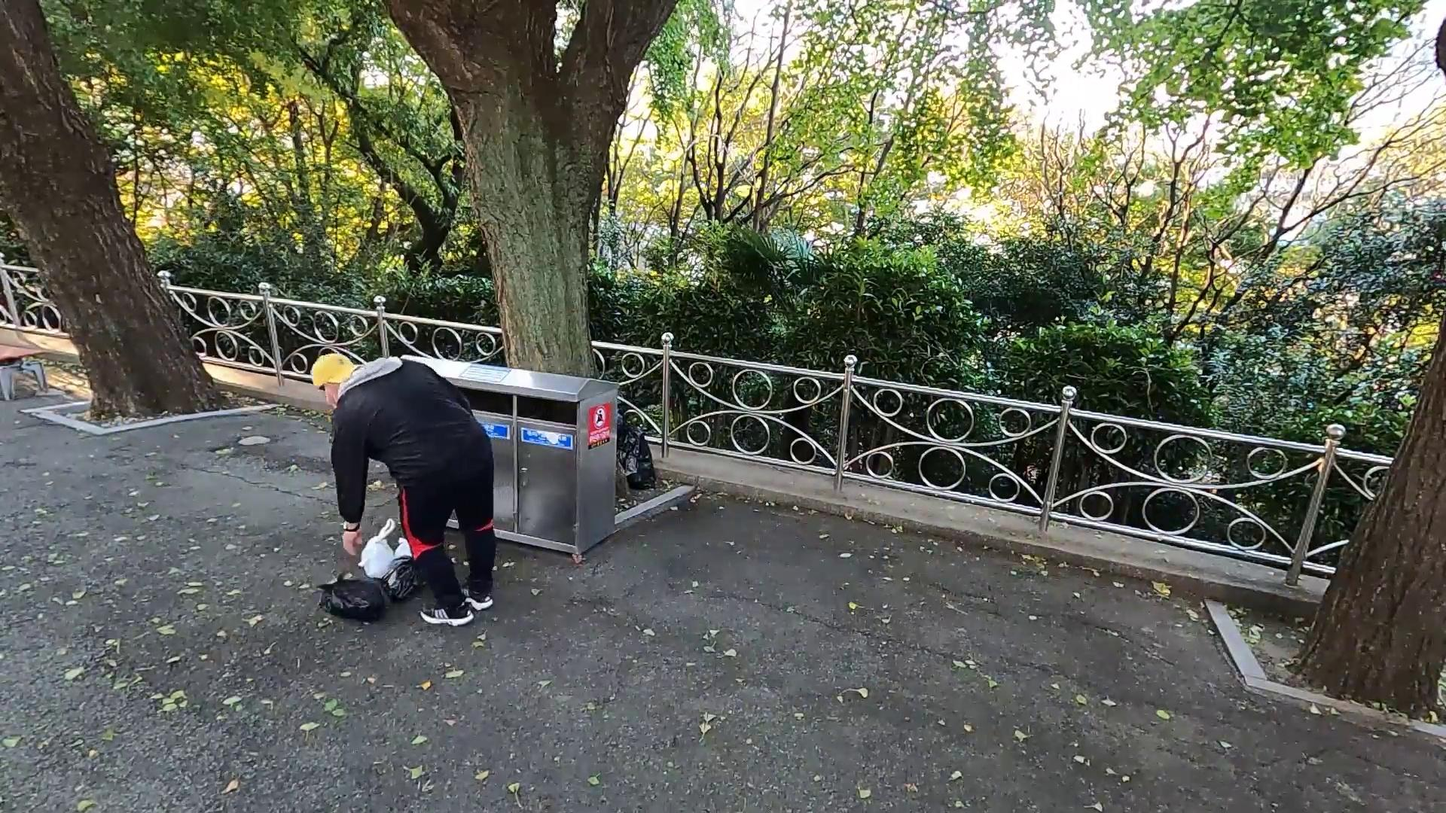person: (307, 351, 501, 629)
trash: (313, 568, 391, 625), (623, 414, 657, 494), (358, 520, 398, 583), (380, 552, 427, 602)
